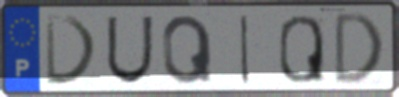D: (43, 13, 101, 88), (332, 10, 385, 88)
I: (239, 13, 252, 87)
Q: (160, 13, 215, 87), (277, 13, 328, 85)
U: (104, 14, 156, 86)
